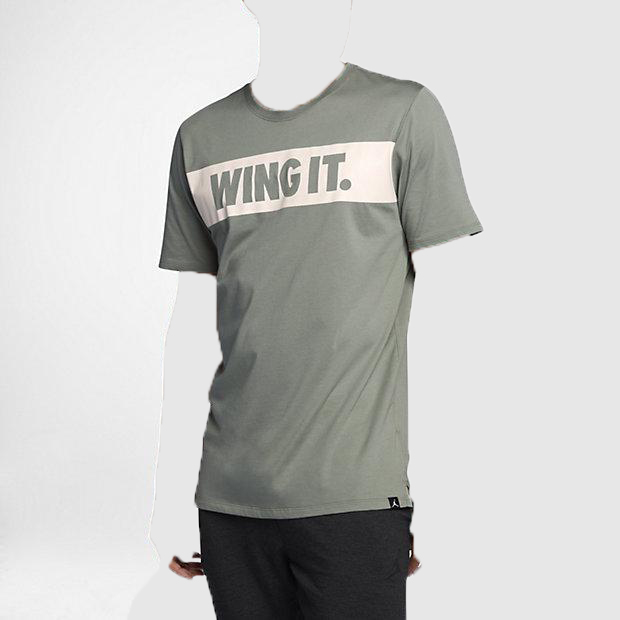teeshirt: (154, 62, 483, 519)
